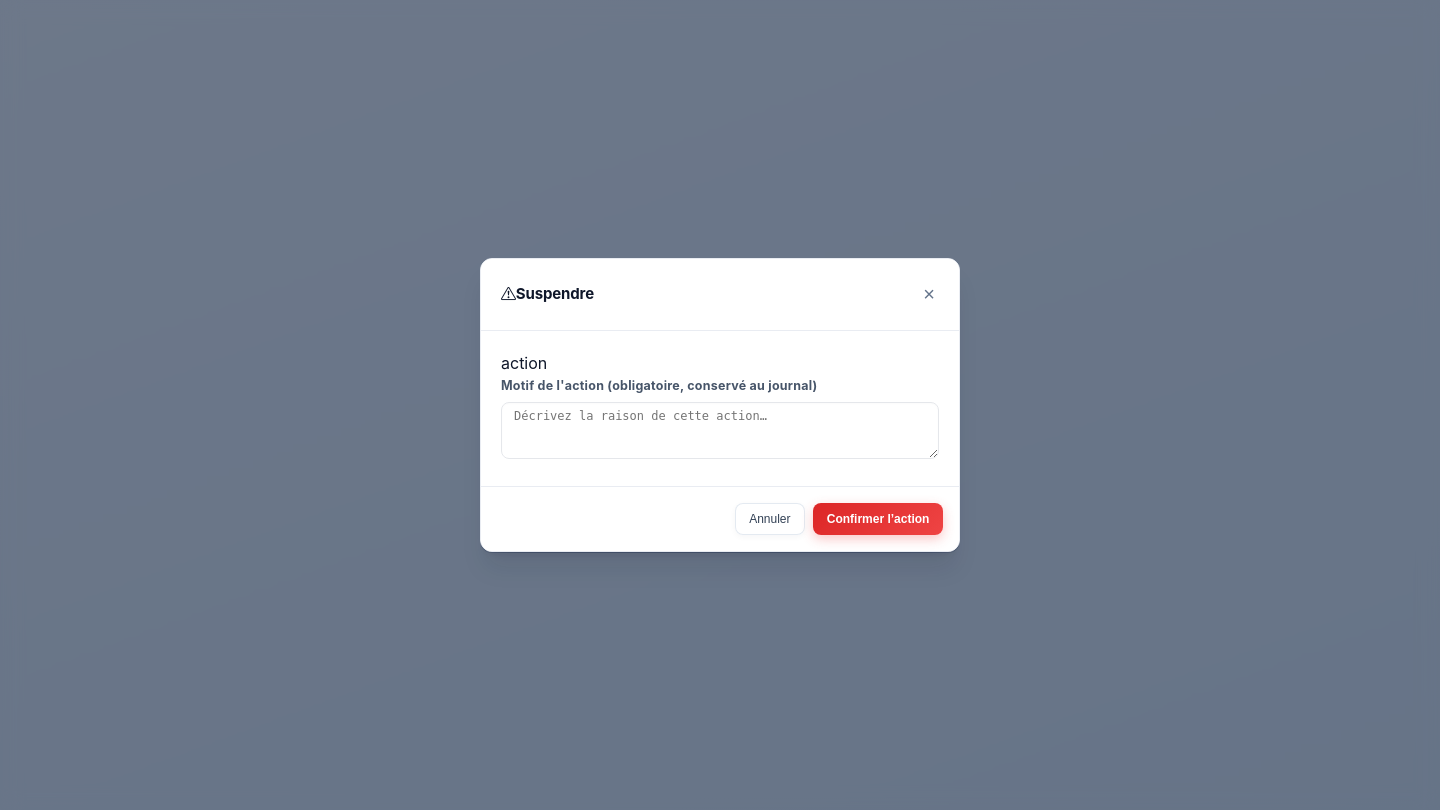
Test case: MotifModal — geste irréversible › garde le bouton désactivé tant que le motif fait moins de 8 caractères
Check: the button with test id "motif-confirmation" is disabled, box top-left (813, 503), bottom-right (943, 535)
Type "court" into the text box with test id "motif-input".
click(720, 430); type("court")  # box top-left (501, 402), bottom-right (939, 459)
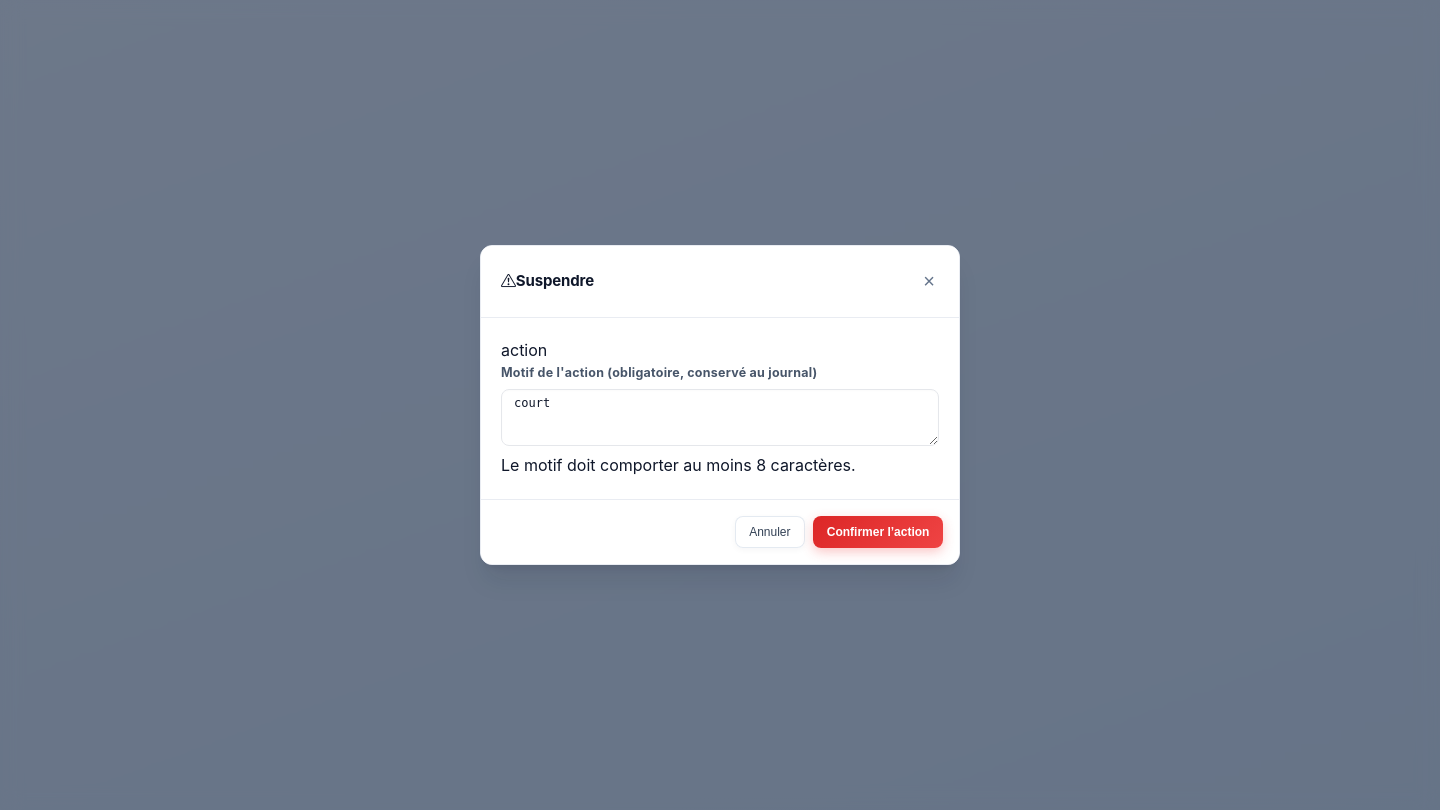
Check: the button with test id "motif-confirmation" is disabled, box top-left (813, 516), bottom-right (943, 548)
Replace the text in the text box with test id "motif-input" with "Absence prolongée non justifiée" at (720, 418), box top-left (501, 389), bottom-right (939, 446)
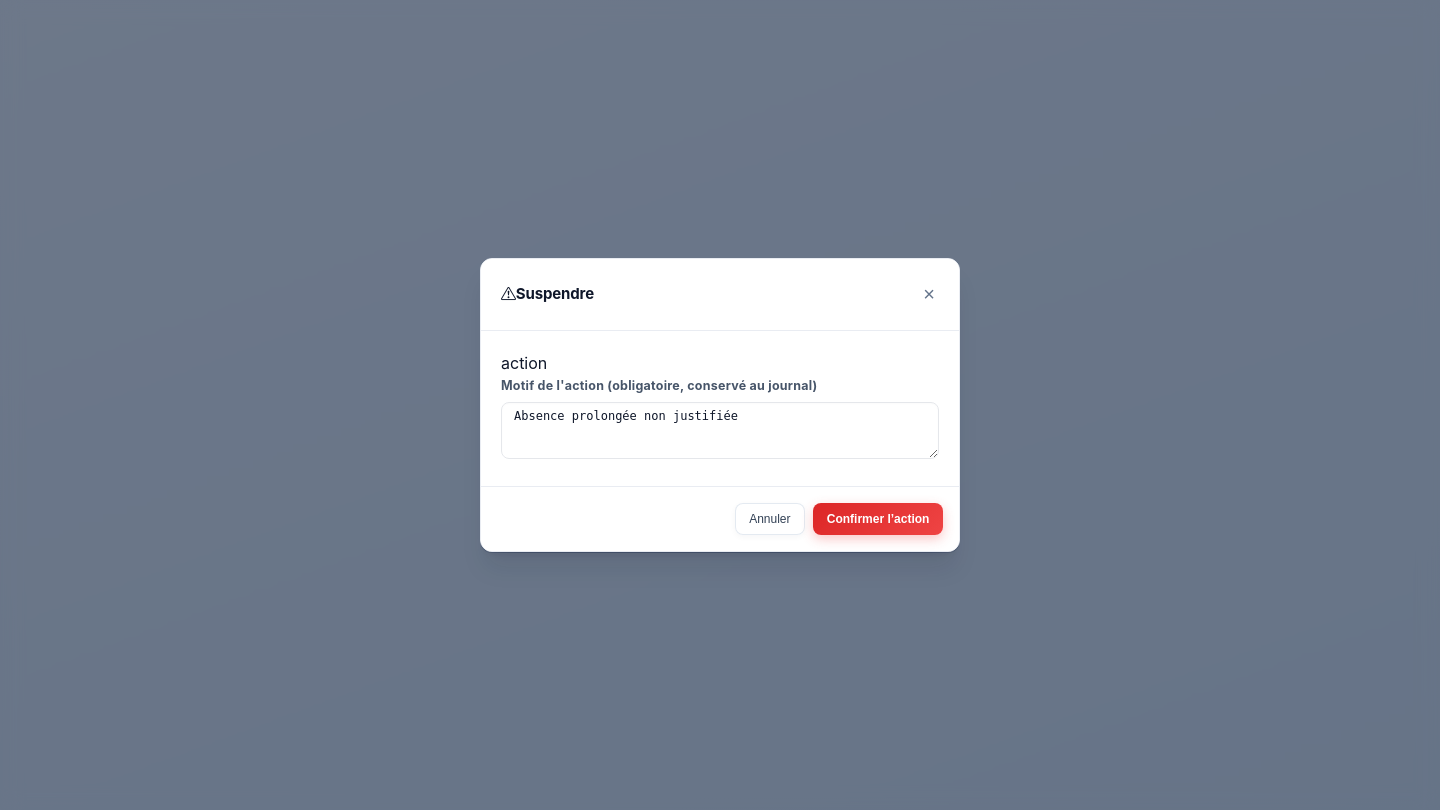
Check: the button with test id "motif-confirmation" is enabled, box top-left (813, 503), bottom-right (943, 535)
